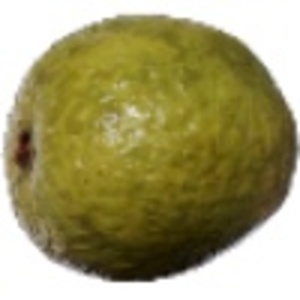goiaba: (5, 12, 297, 283)
